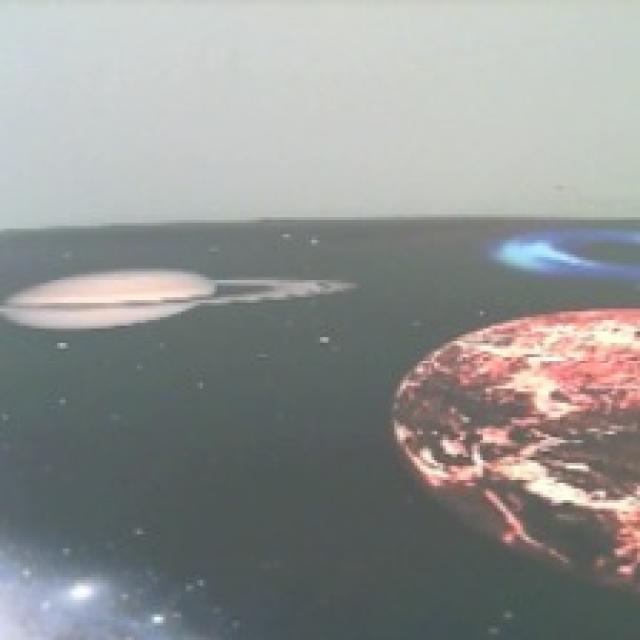Black Hole: (496, 222, 640, 282)
Saturn: (0, 261, 363, 332)
Sun: (391, 304, 640, 593)
